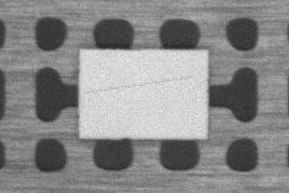DIE_CRACK: (130, 51, 286, 61)
